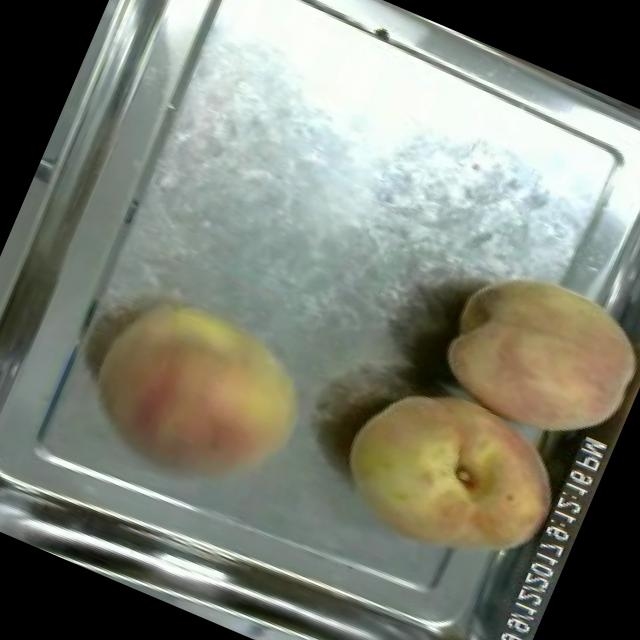Fruit: (62, 268, 338, 526), (313, 356, 586, 600), (421, 238, 640, 459)
